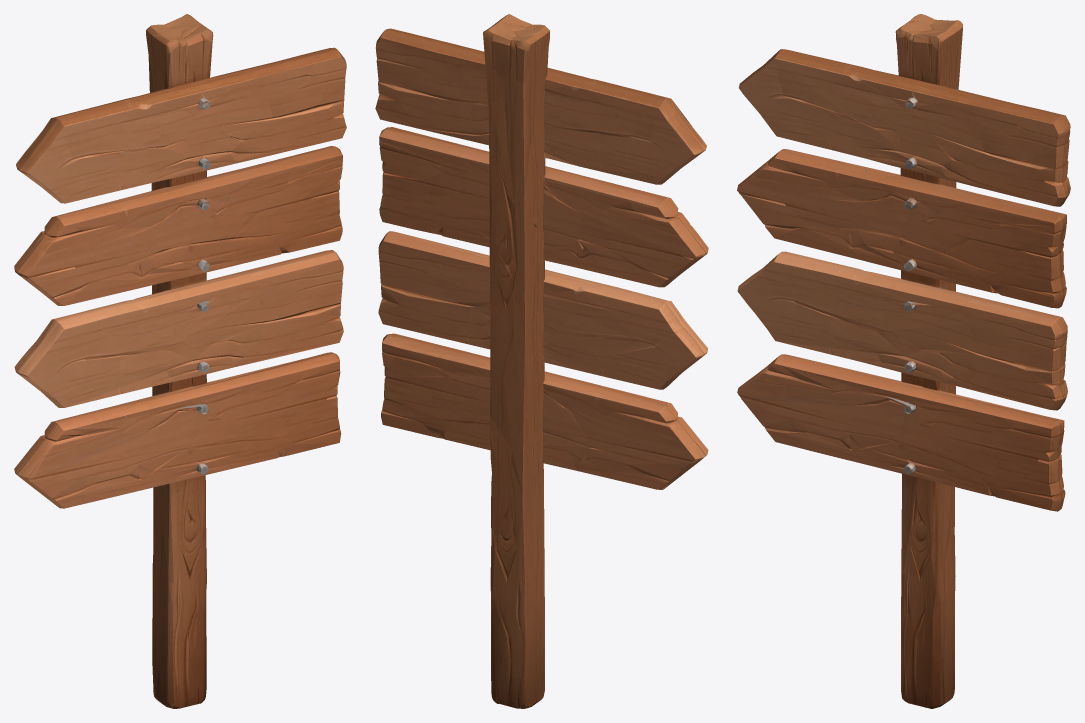
File: signpost.glb
3 views of the same model, side by side, from view 1: azimuth 30°, elevation 25°; view 2: azimuth 150°, elevation 25°; view 3: azimuth 330°, elevation 25° (orthographic).
Bounding box in the file's own units: 1.22 × 2.4 × 0.2344.
1 material, 1 textured.
